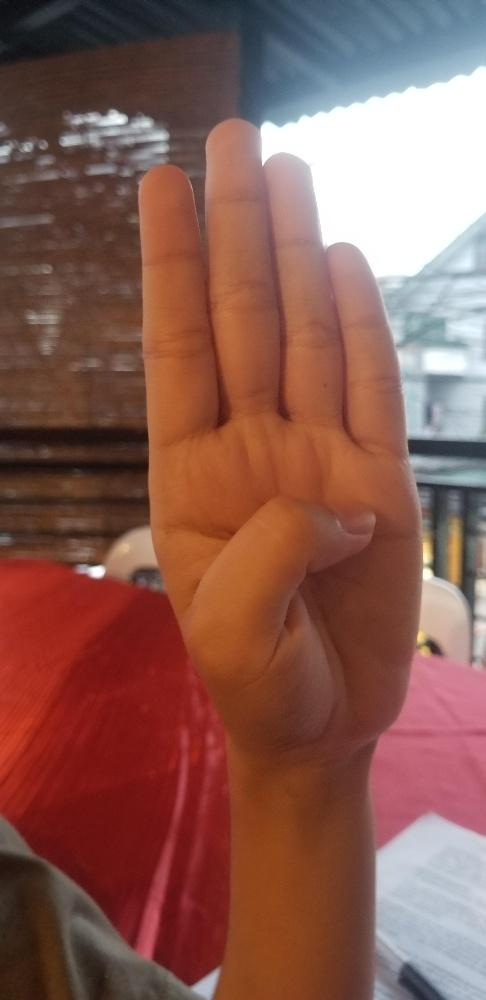b: (136, 117, 423, 741)
